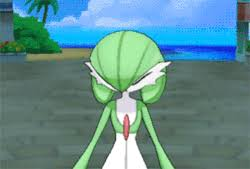gardevoir: (68, 30, 176, 169)
